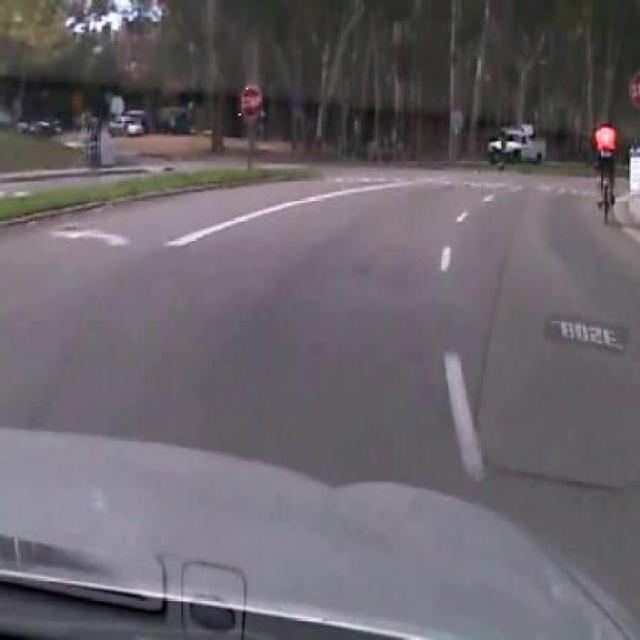stop: (238, 85, 262, 118)
